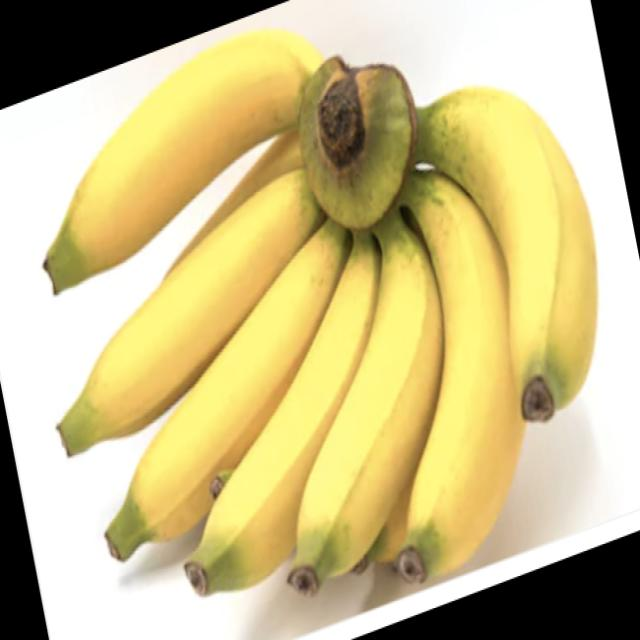god quality banana: (44, 28, 600, 596)
